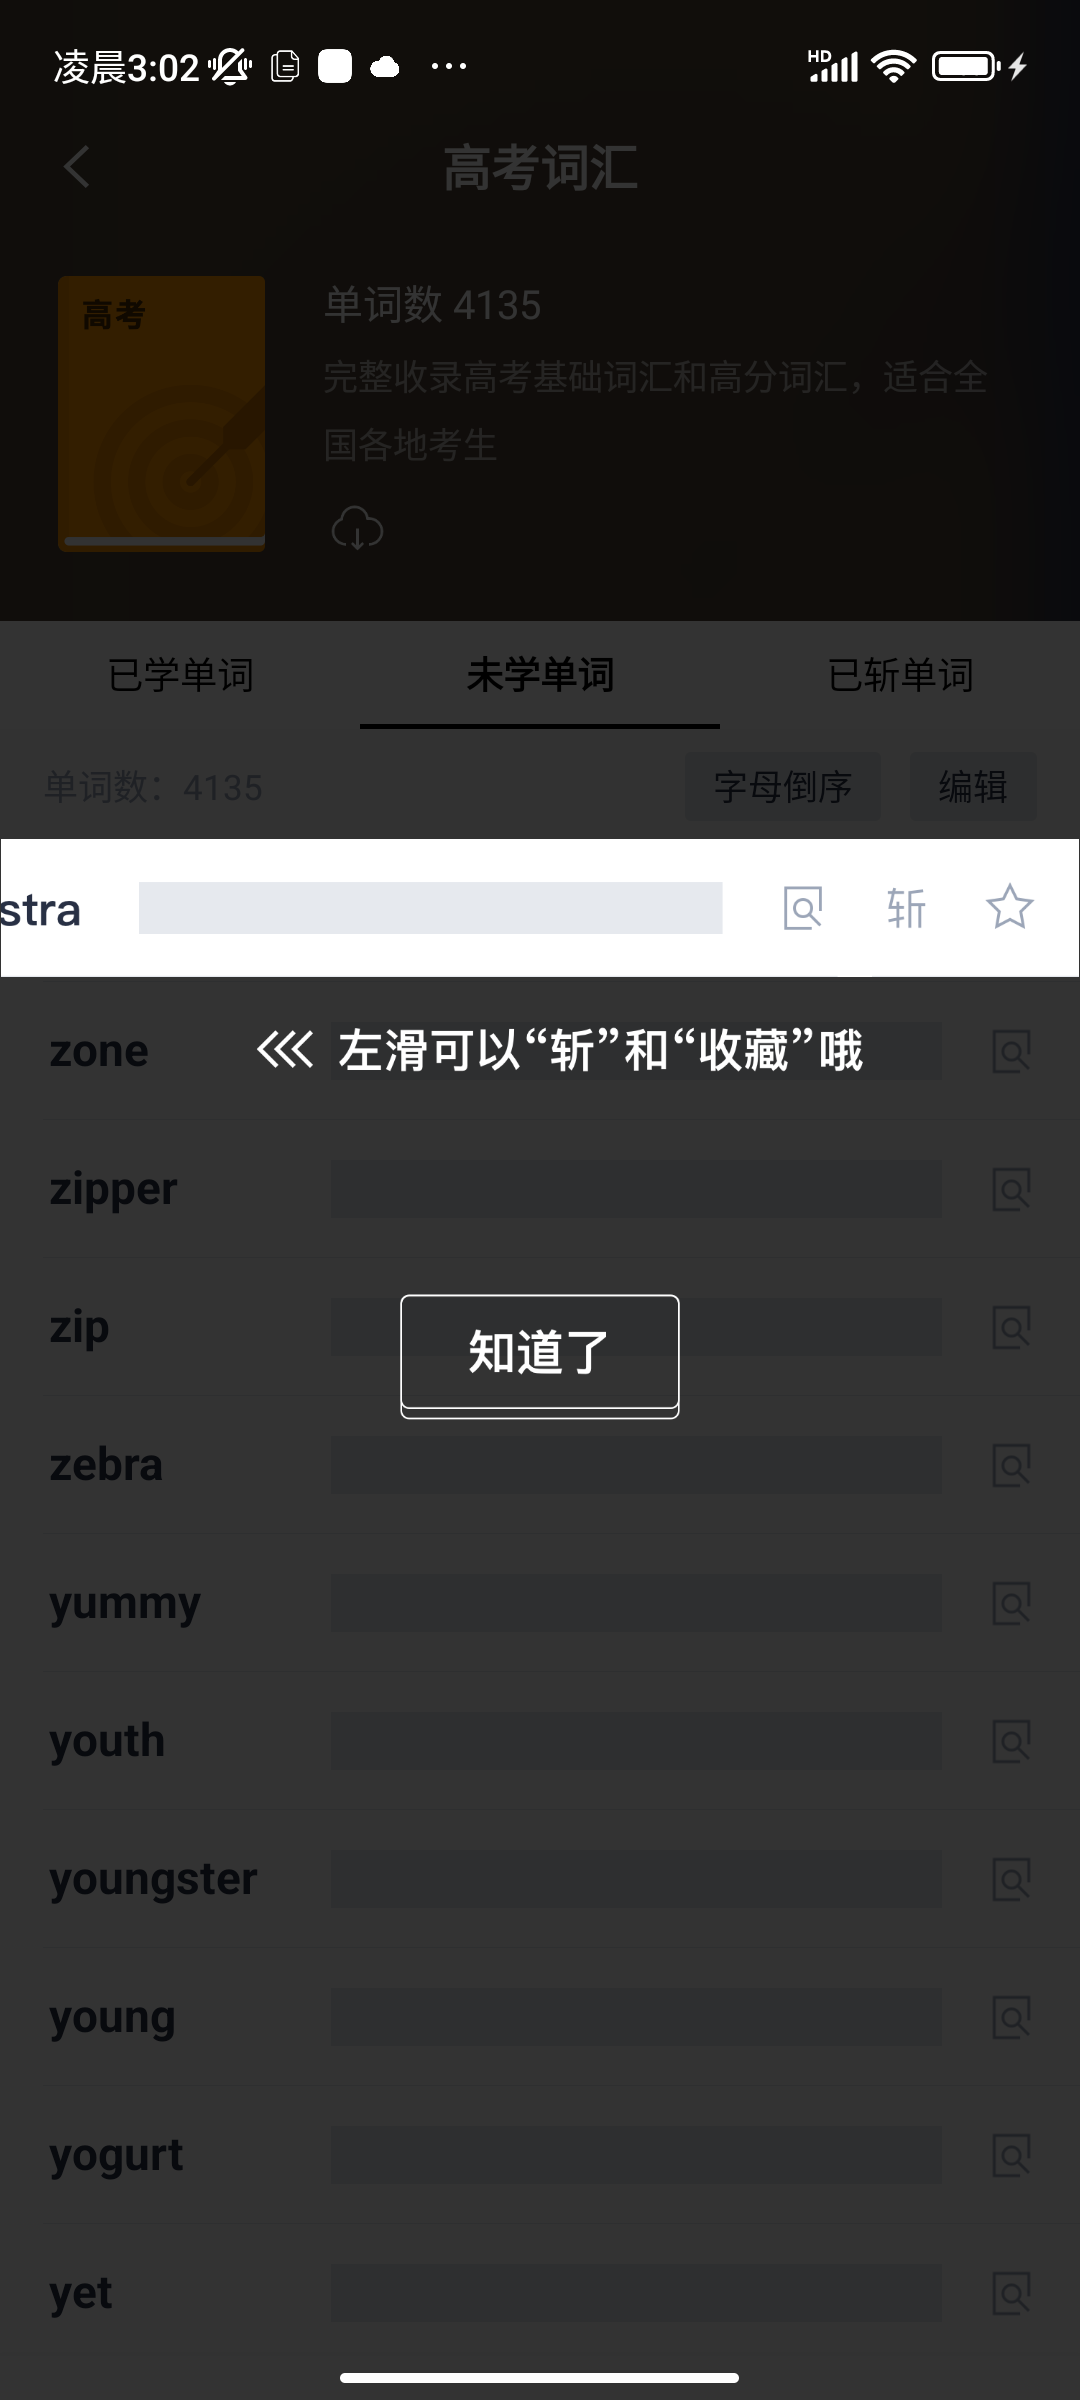ui_group: (5, 828, 1080, 1431)
